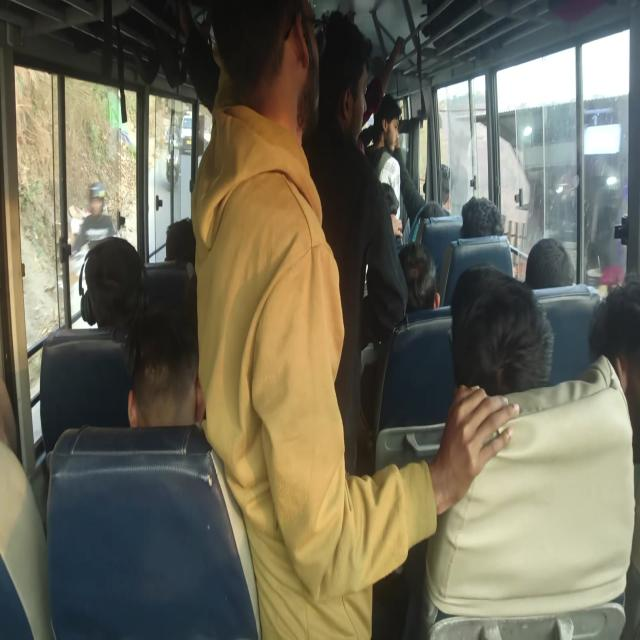person: (452, 255, 577, 432), (221, 25, 316, 152), (522, 237, 620, 355), (120, 307, 194, 461), (593, 272, 640, 424), (330, 39, 379, 128), (74, 246, 128, 320), (397, 234, 441, 319), (170, 203, 215, 275), (376, 182, 414, 239), (376, 104, 404, 156), (420, 163, 450, 203), (472, 194, 499, 234)
